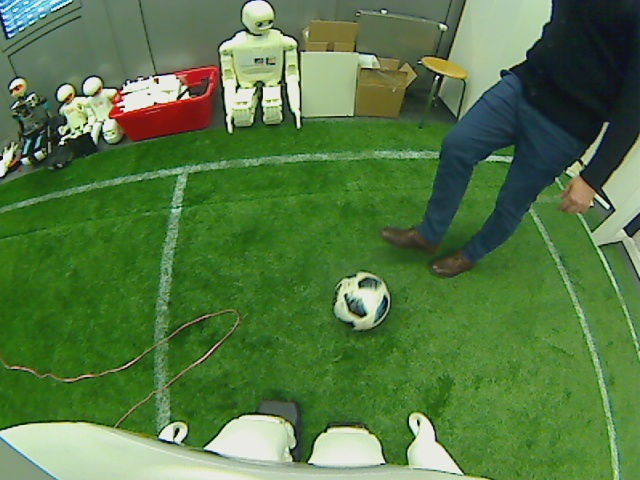ball: (331, 270, 390, 331)
